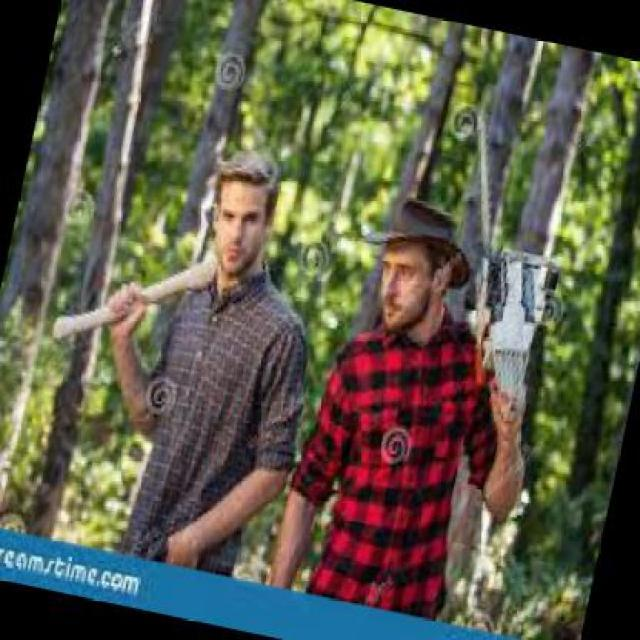poacher: (105, 122, 288, 538), (312, 197, 498, 548)
weapon: (46, 233, 290, 388), (450, 214, 616, 388)
